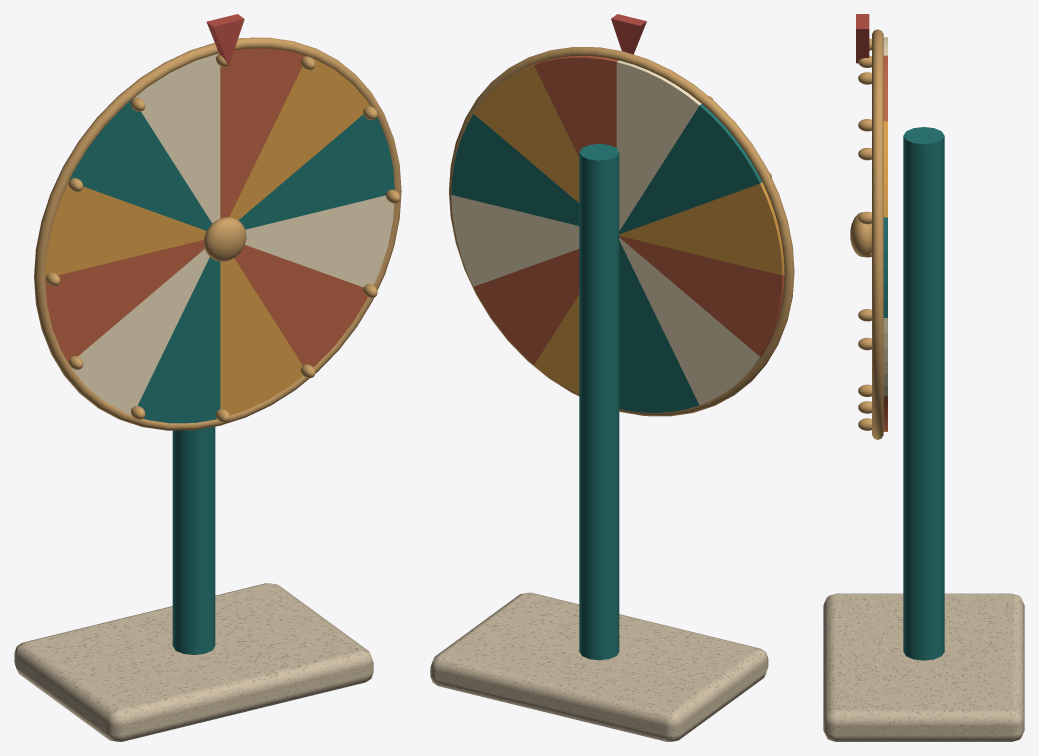
Rendered from fair-wheel-2a2dde52cc10.glb.
3 views of the same model, side by side, from view 1: azimuth 30°, elevation 25°; view 2: azimuth 150°, elevation 25°; view 3: azimuth 270°, elevation 25° (orthographic). The views are drawn at different scales.
Visible parts, largest first — view 1: surface_teal, surface_terrazzo, surface_ivory, surface_ochre, surface_terracotta, surface_brass, surface_red; view 2: surface_teal, surface_terrazzo, surface_ivory, surface_terracotta, surface_ochre, surface_brass, surface_red; view 3: surface_terrazzo, surface_teal, surface_brass, surface_red, surface_terracotta, surface_ochre, surface_ivory.
Part boxes in pixels (x1,y1,x2,y2): surface_teal: [69, 99, 394, 654]; surface_terrazzo: [14, 583, 373, 741]; surface_ivory: [71, 53, 394, 414]; surface_ochre: [45, 58, 369, 415]; surface_terracotta: [45, 48, 367, 367]; surface_brass: [34, 37, 401, 430]; surface_red: [206, 14, 244, 65]; surface_teal: [451, 104, 762, 660]; surface_terrazzo: [430, 592, 768, 741]; surface_ivory: [451, 60, 761, 405]; surface_terracotta: [474, 56, 784, 364]; surface_ochre: [473, 64, 784, 394]; surface_brass: [449, 47, 794, 416]; surface_red: [611, 14, 646, 54]; surface_terrazzo: [823, 593, 1024, 741]; surface_teal: [883, 127, 944, 660]; surface_brass: [850, 29, 883, 439]; surface_red: [856, 14, 869, 63]; surface_terracotta: [883, 55, 887, 431]; surface_ochre: [883, 121, 887, 431]; surface_ivory: [883, 37, 887, 396].
Size of the model in its own units: 0.978 by 1.74 by 0.48.
Materials: 7 (1 with a texture image).
